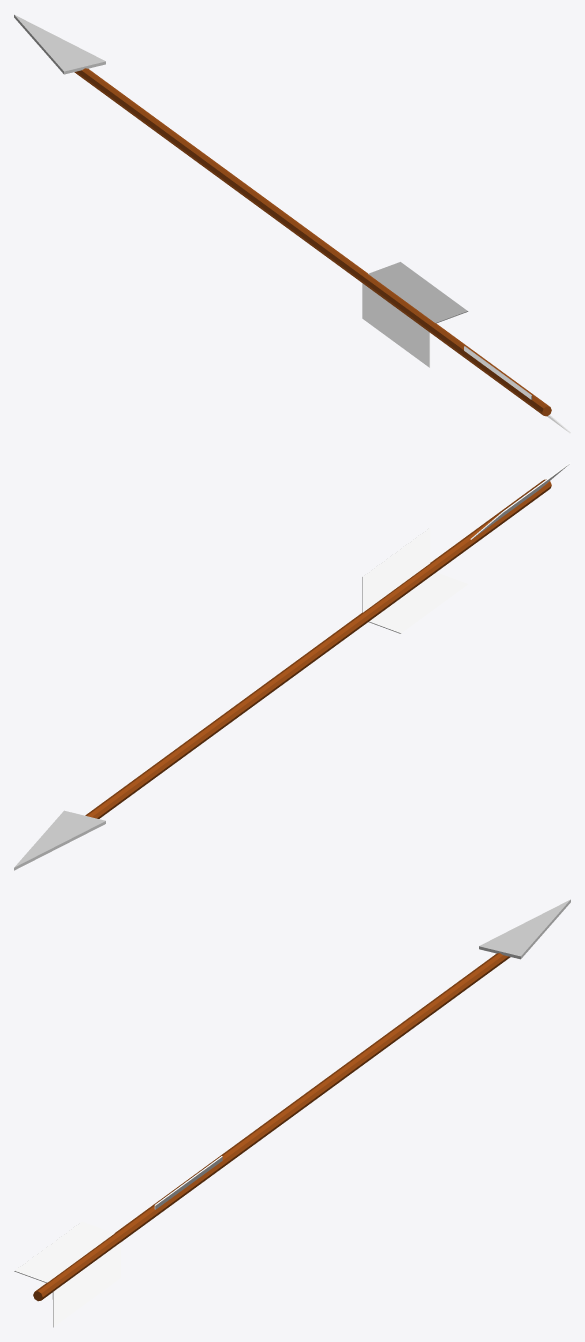
File: Arrow_03.fbx
The picture shows the model from 3 angles, top to bottom: view 1: azimuth 30°, elevation 25°; view 2: azimuth 150°, elevation 25°; view 3: azimuth 330°, elevation 25°; orthographic projection.
Visible parts, largest first — view 1: Arrow_03; view 2: Arrow_03; view 3: Arrow_03.
Part boxes in pixels (x1,y1,x2,y2): Arrow_03: (14, 14, 570, 433); Arrow_03: (14, 462, 570, 870); Arrow_03: (14, 899, 570, 1327).
Size of the model in its own units: 5.04 by 5.52 by 112.
